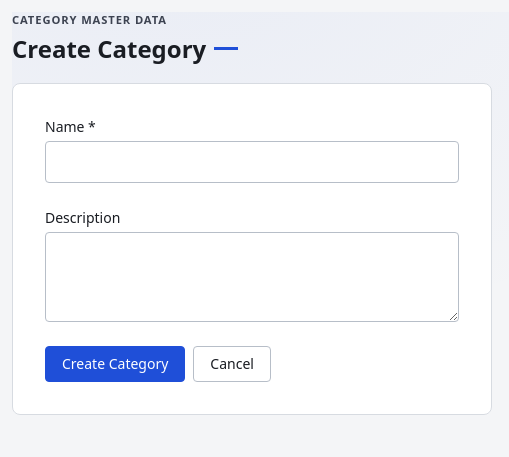
CategoryCreatePage › requires a name before submitting
Click the button "Create Category".
click(115, 364)  # box [45,346,185,382]
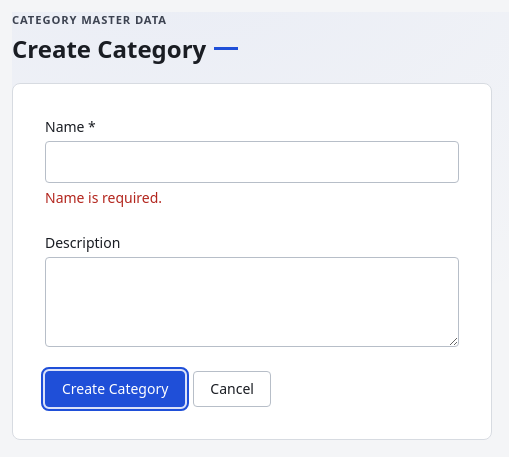
Result: the text "Name is required." is shown at [45,188,162,207]
